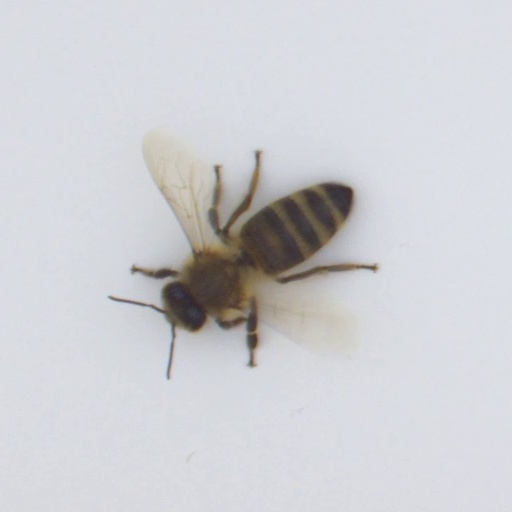Bee: (134, 162, 384, 350)
Thorax: (182, 250, 246, 313)
